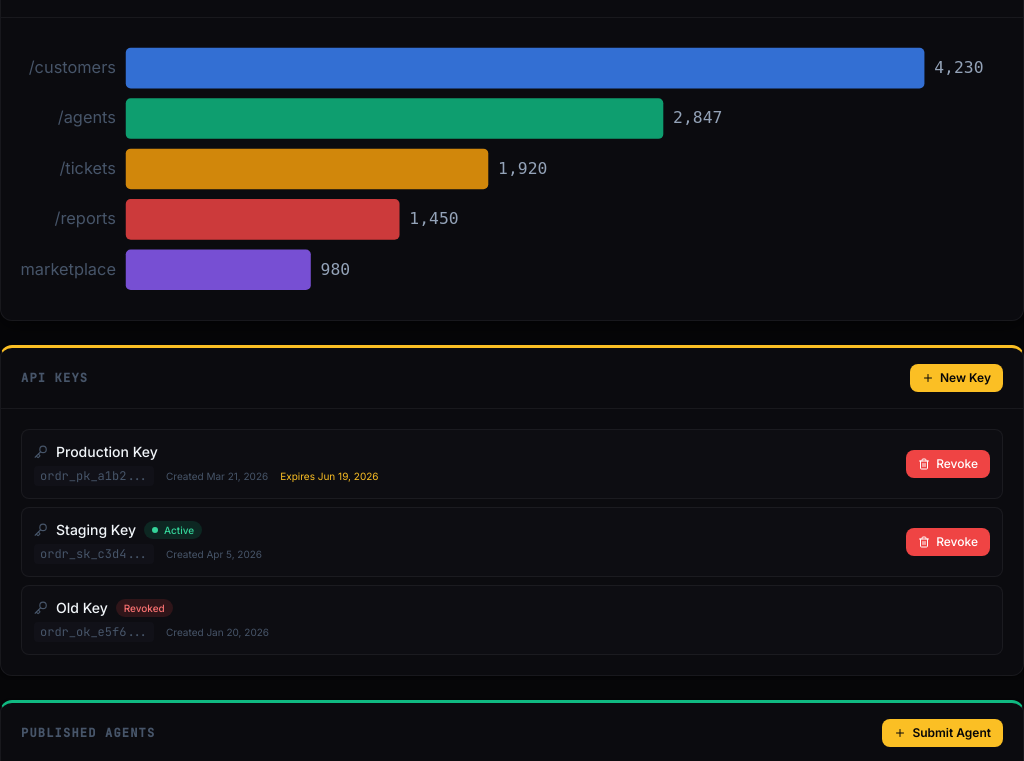
Scenario: DeveloperConsole › opens create key modal
The image size is (1024, 761).
(page scrolled)
Click the button "New Key".
click(956, 378)  # box [910,364,1003,392]
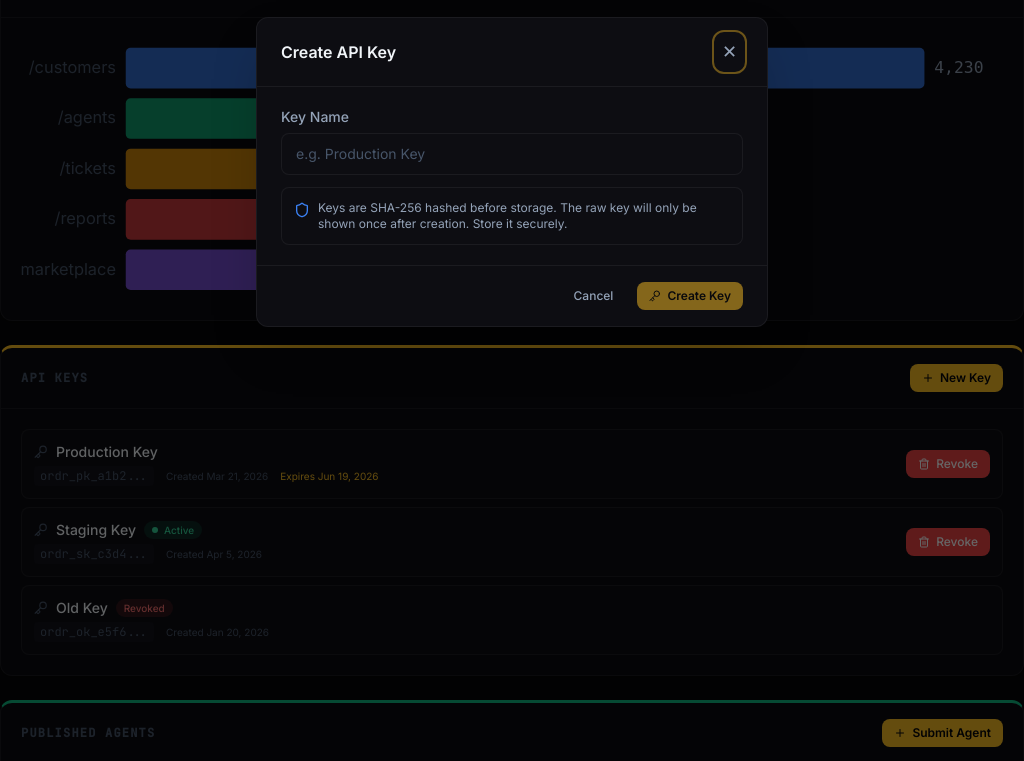
Check: the heading "Create API Key" is shown, box [281,40,396,64]
